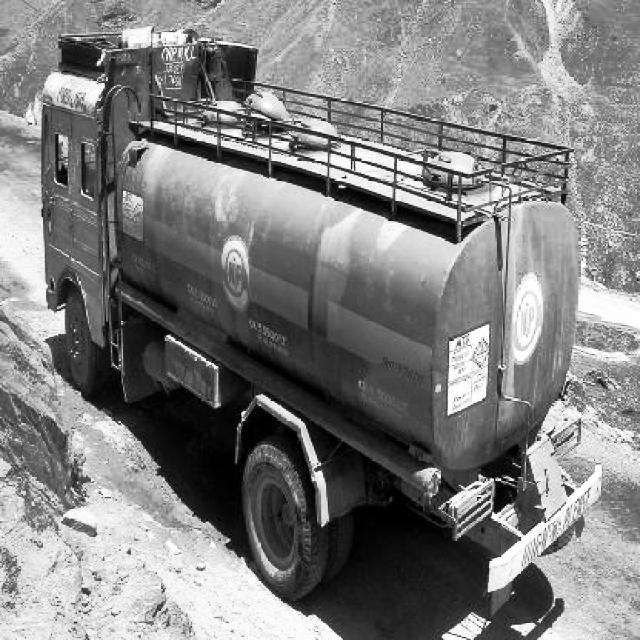HCV: (48, 43, 553, 594)
